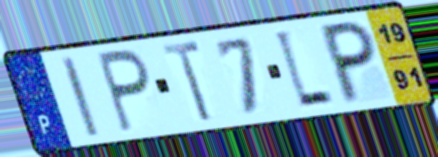7: (212, 34, 266, 117)
I: (57, 53, 103, 140)
L: (270, 27, 338, 113)
P: (94, 46, 153, 135), (320, 18, 378, 108)
T: (159, 38, 216, 125)
